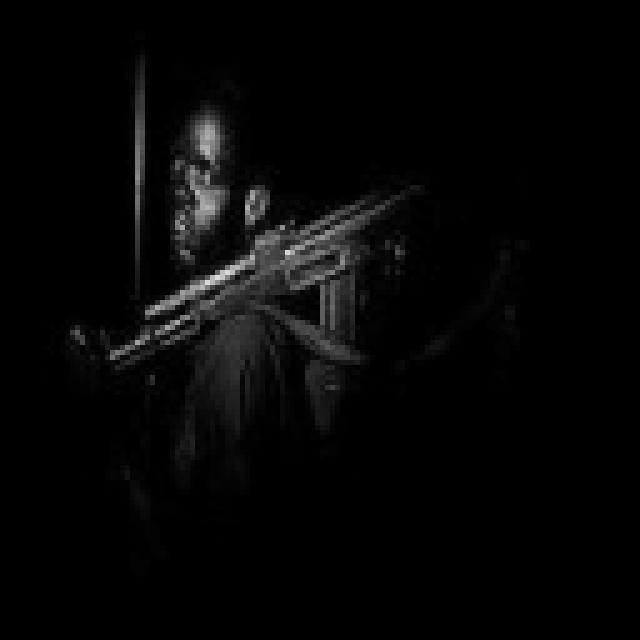Rifle: (109, 140, 470, 402)
